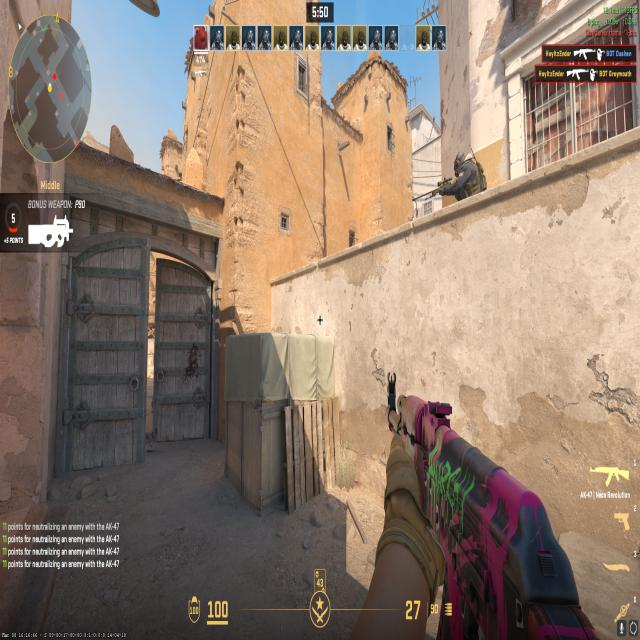ct: (432, 147, 495, 200)
